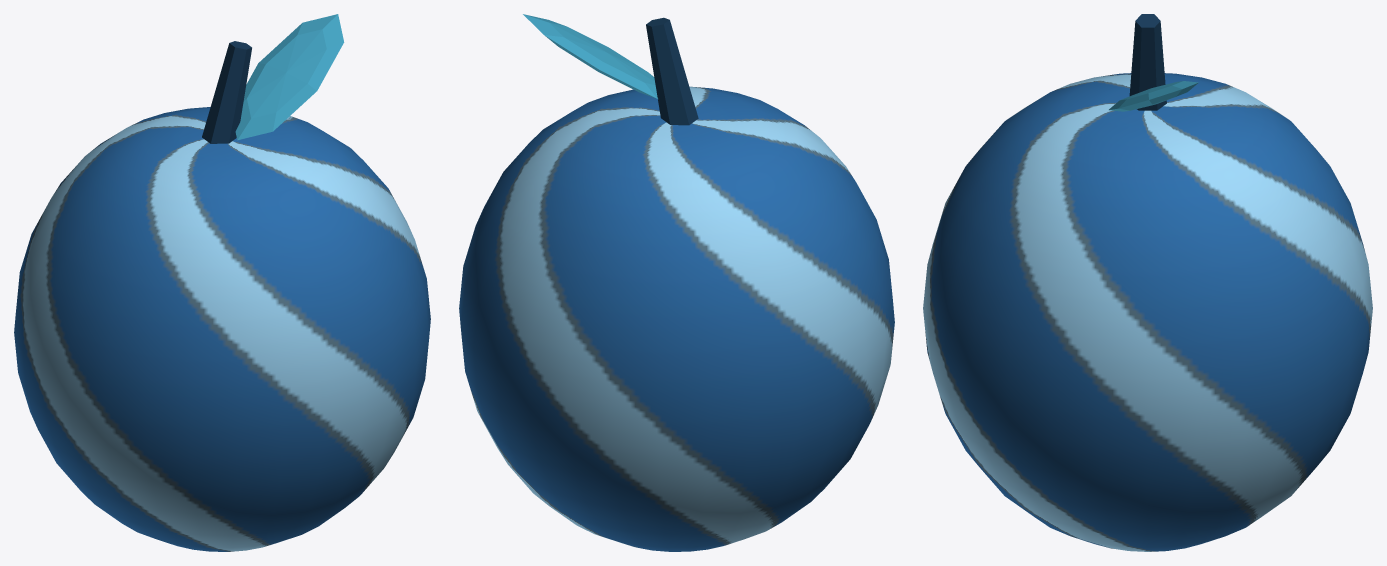
Rendered from Fruit_UoSeiryu.fbx.
3 renders of one model, left to right at view 1: azimuth 30°, elevation 25°; view 2: azimuth 150°, elevation 25°; view 3: azimuth 270°, elevation 25°, orthographic. The views are drawn at different scales.
Visible parts, largest first — view 1: Fruit_UoSeiryu; view 2: Fruit_UoSeiryu; view 3: Fruit_UoSeiryu.
Part boxes in pixels (x1,y1,x2,y2): Fruit_UoSeiryu: [14, 14, 430, 551]; Fruit_UoSeiryu: [459, 14, 894, 551]; Fruit_UoSeiryu: [923, 14, 1372, 551].
Size of the model in its own units: 1.6 by 2.06 by 1.6.
1 material, 1 textured.
